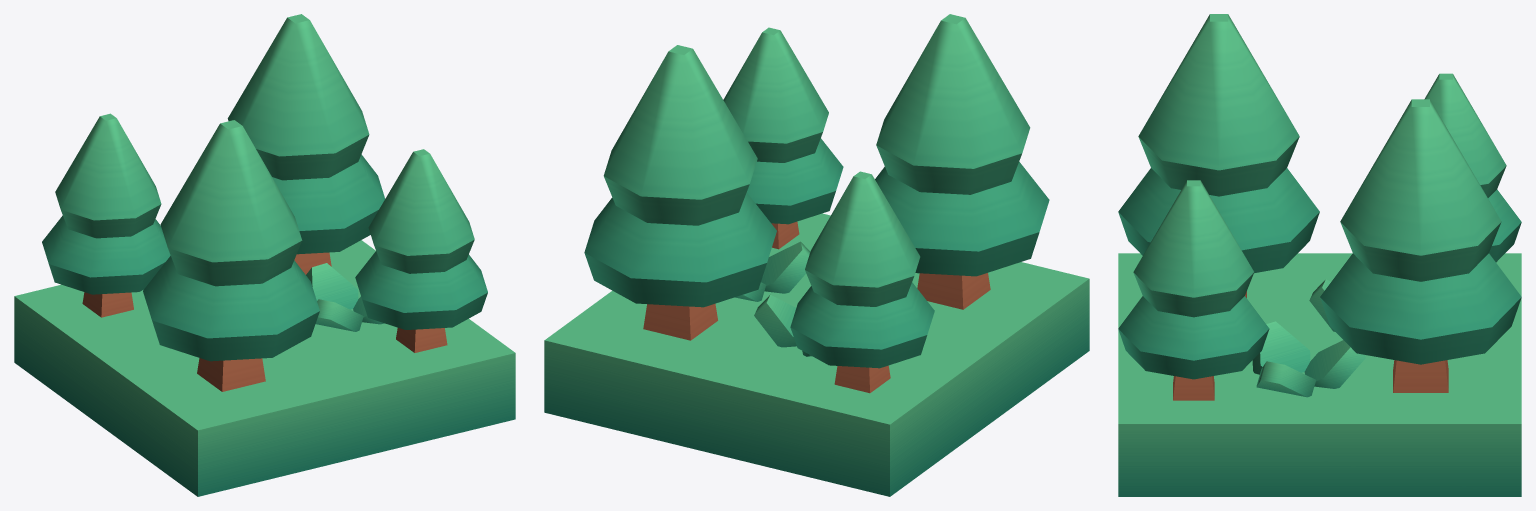
Rendered from tile-tree-quad.fbx.
The picture shows the model from 3 angles, left to right: view 1: azimuth 30°, elevation 25°; view 2: azimuth 150°, elevation 25°; view 3: azimuth 270°, elevation 25°; orthographic projection. The views are drawn at different scales.
Visible parts, largest first — view 1: tile-tree-quad; view 2: tile-tree-quad; view 3: tile-tree-quad.
Boxes of the visible parts, x1=… form: tile-tree-quad: x1=14, y1=14, x2=515, y2=496; tile-tree-quad: x1=544, y1=14, x2=1089, y2=496; tile-tree-quad: x1=1118, y1=14, x2=1521, y2=496.
Size of the model in its own units: 100 by 96 by 100.
